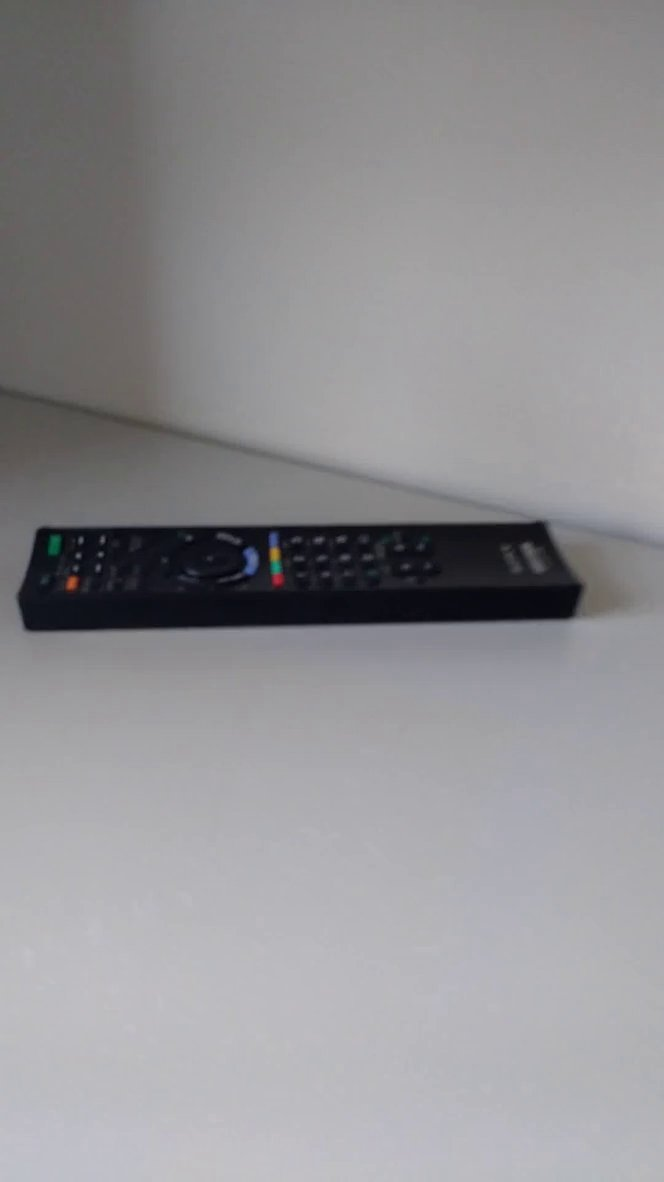remote: (10, 486, 612, 664)
